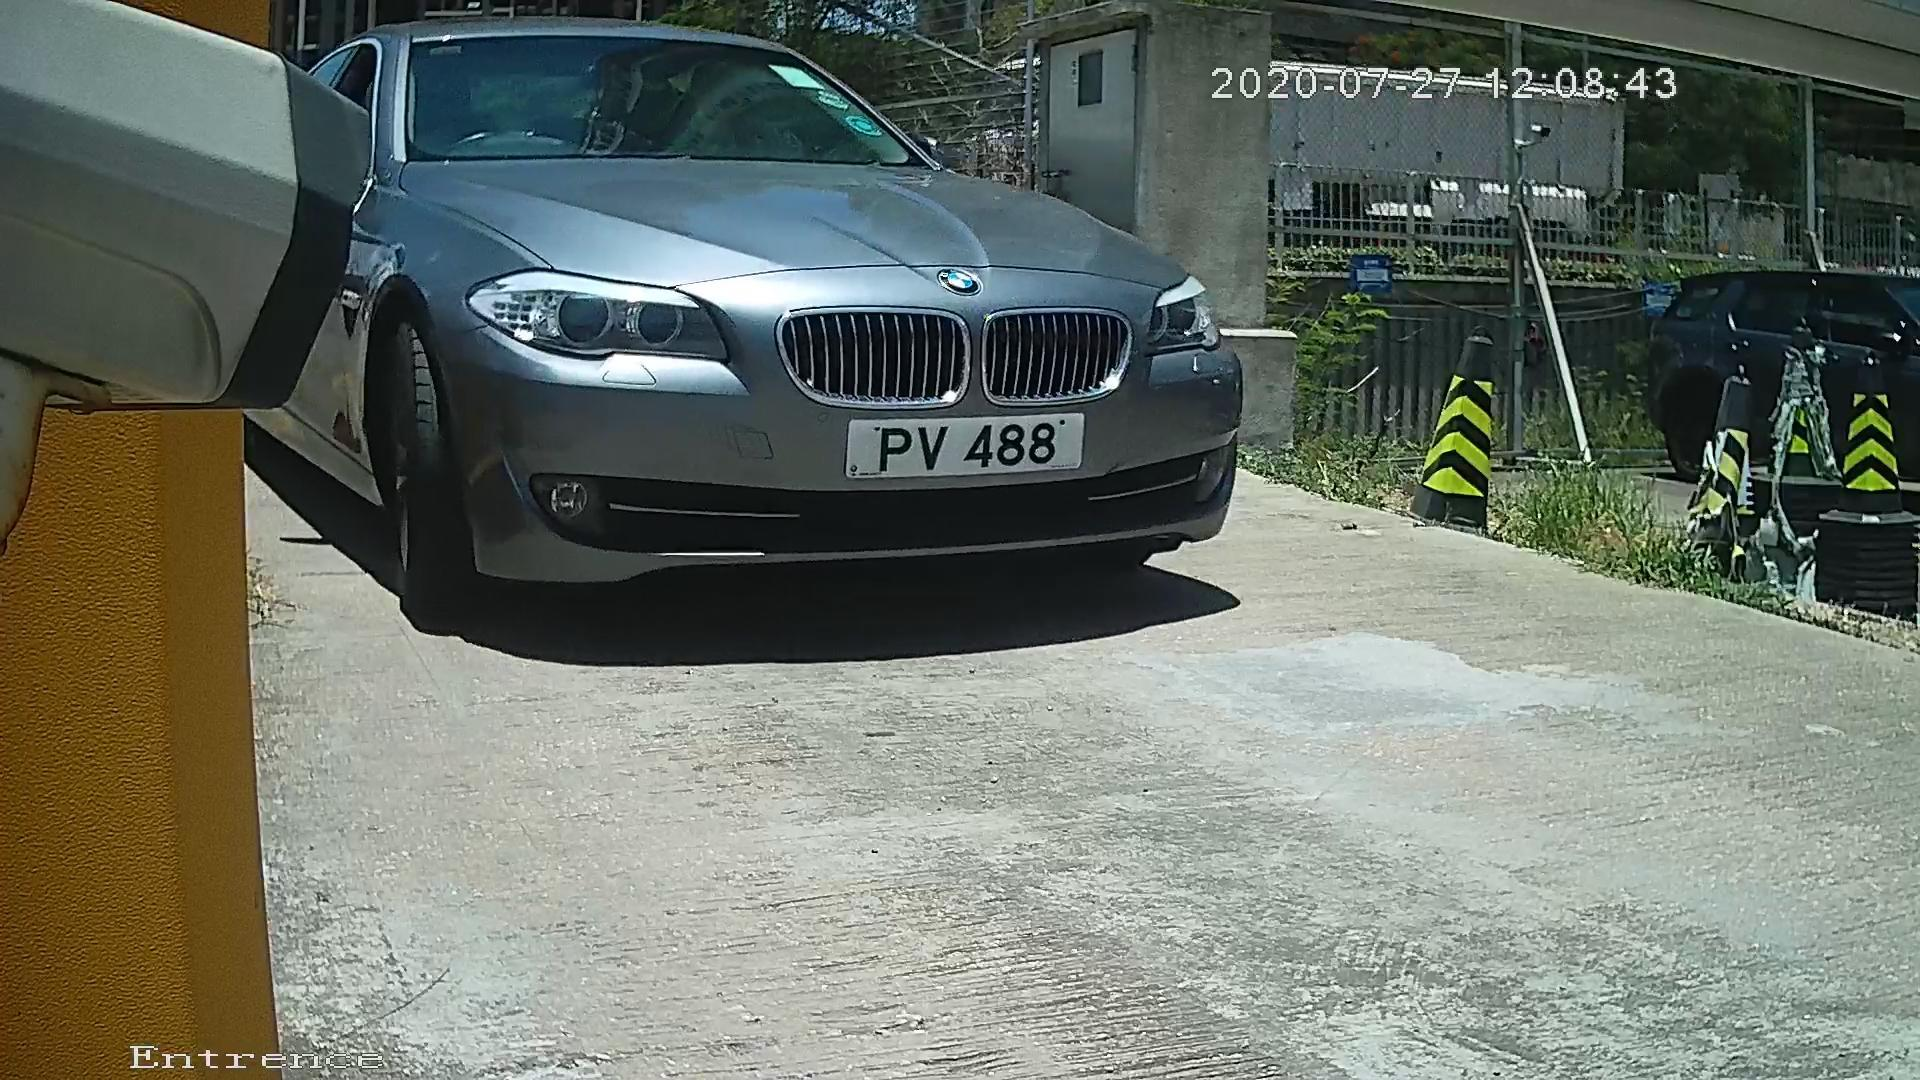Car: (146, 39, 1278, 642)
License Plate: (823, 401, 1098, 492)
